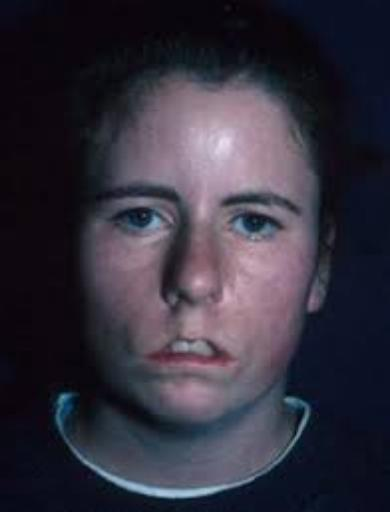left_eye: (224, 211, 288, 243)
left_lip_corner: (223, 351, 245, 370)
right_eye: (111, 205, 174, 238)
right_lip_corner: (142, 345, 168, 371)
